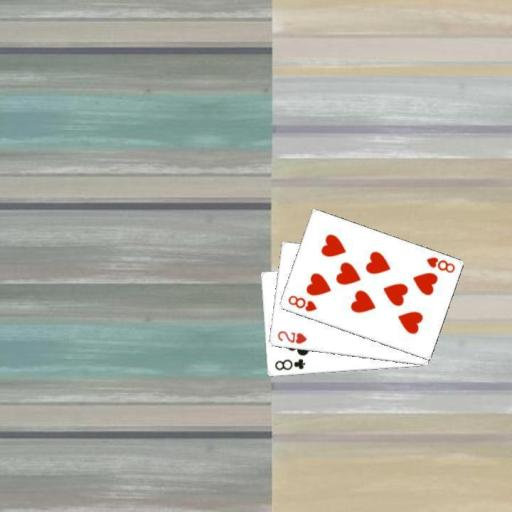card-corner: (284, 292, 318, 313), (423, 254, 457, 274), (274, 328, 308, 346), (272, 355, 306, 372)
